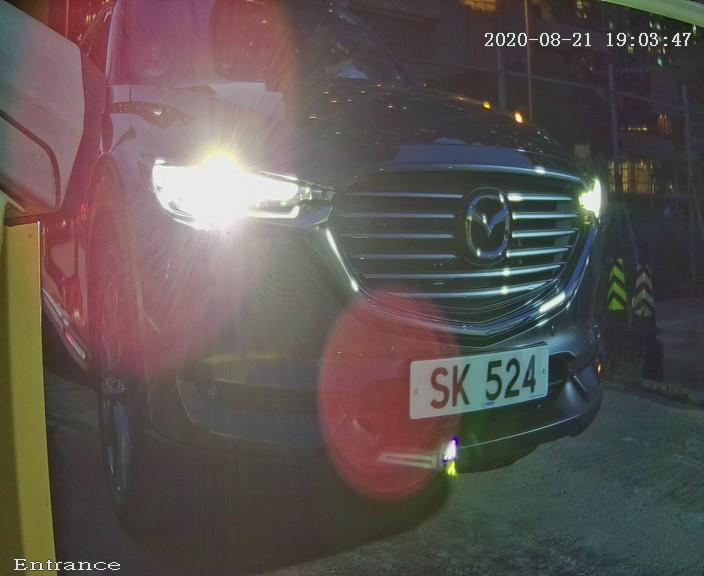Car: (19, 1, 670, 559)
License Plate: (403, 335, 560, 430)
